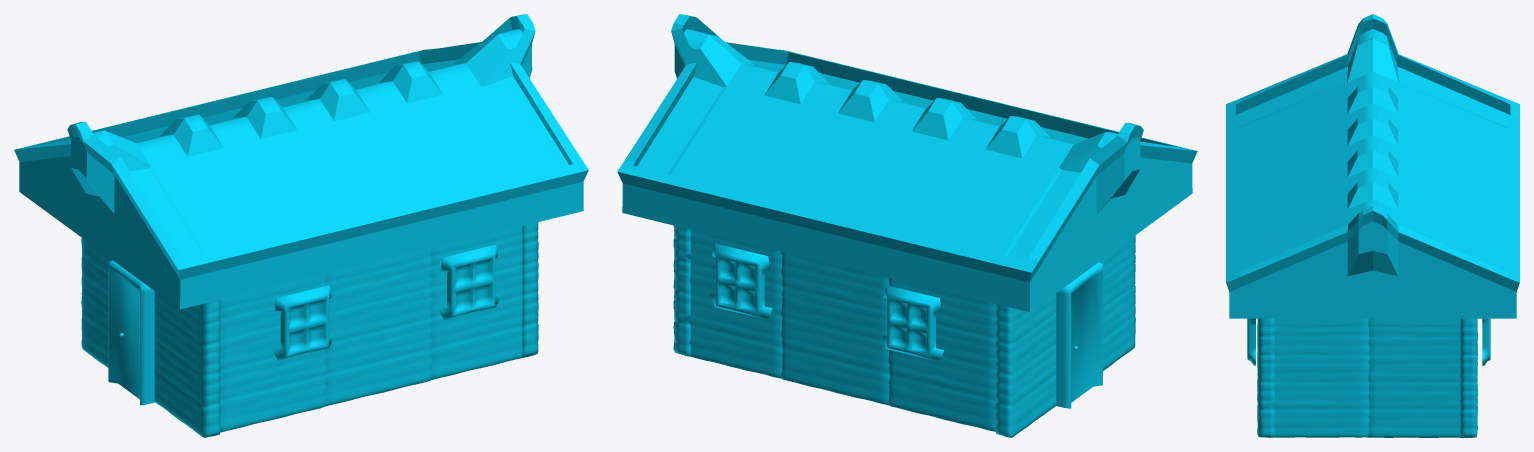
Rendered from StoneHouse.fbx.
The picture shows the model from 3 angles, left to right: view 1: azimuth 30°, elevation 25°; view 2: azimuth 150°, elevation 25°; view 3: azimuth 270°, elevation 25°; orthographic projection. The views are drawn at different scales.
Visible parts, largest first — view 1: Roof_low001, Wall_low016, Wall_low014, Wall_low010, Wall_low018, Door_low001, Window_low004, Window_low005, Wall_low019, Wall_low011; view 2: Roof_low001, Wall_low017, Wall_low015, Wall_low013, Wall_low019, Door_low001, Wall_low018, Window_low006, Window_low007, Wall_low012; view 3: Roof_low001, Wall_low011, Wall_low012, Wall_low013, Wall_low010, Window_low006, Window_low005.
Boxes of the visible parts, x1,y1,x2,y2 form: Roof_low001: (14,14,588,309); Wall_low016: (325,248,432,406); Wall_low014: (220,274,326,432); Wall_low010: (431,226,538,379); Wall_low018: (154,291,220,437); Door_low001: (108,260,154,405); Window_low004: (273,285,334,360); Window_low005: (439,244,500,320); Wall_low019: (81,238,111,367); Wall_low011: (522,222,538,357); Roof_low001: (617,14,1197,312); Wall_low017: (781,252,890,405); Wall_low015: (888,278,997,431); Wall_low013: (673,225,782,378); Wall_low019: (995,293,1056,437); Door_low001: (1056,262,1102,408); Wall_low018: (1099,235,1135,370); Window_low006: (711,243,772,319); Window_low007: (882,285,943,361); Wall_low012: (674,226,690,356); Roof_low001: (1226,14,1519,318); Wall_low011: (1257,318,1369,437); Wall_low012: (1367,318,1477,437); Wall_low013: (1460,318,1476,437); Wall_low010: (1258,318,1274,437); Window_low006: (1482,318,1490,365); Window_low005: (1247,318,1255,365).
Size of the model in its own units: 18765 by 11279 by 11832.
